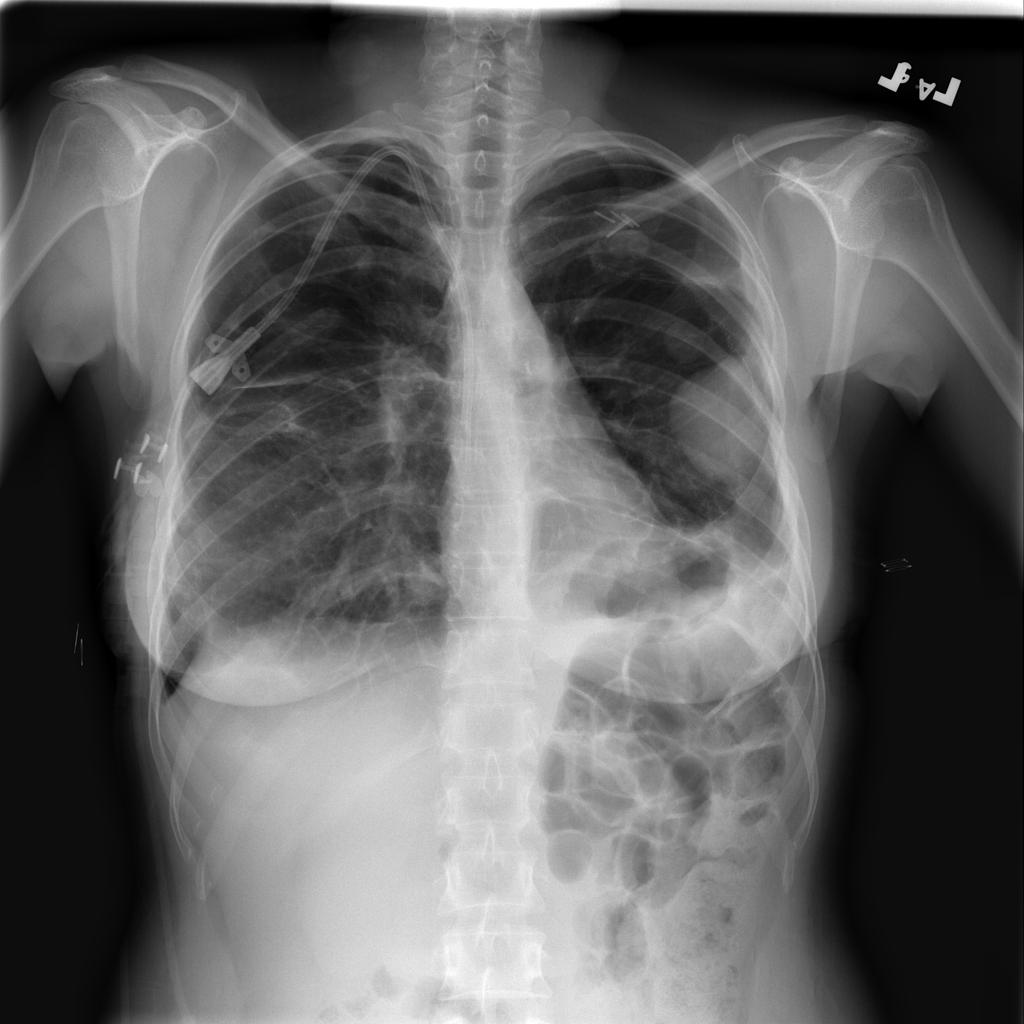nodule: (661, 359, 783, 488), (651, 306, 721, 370)
